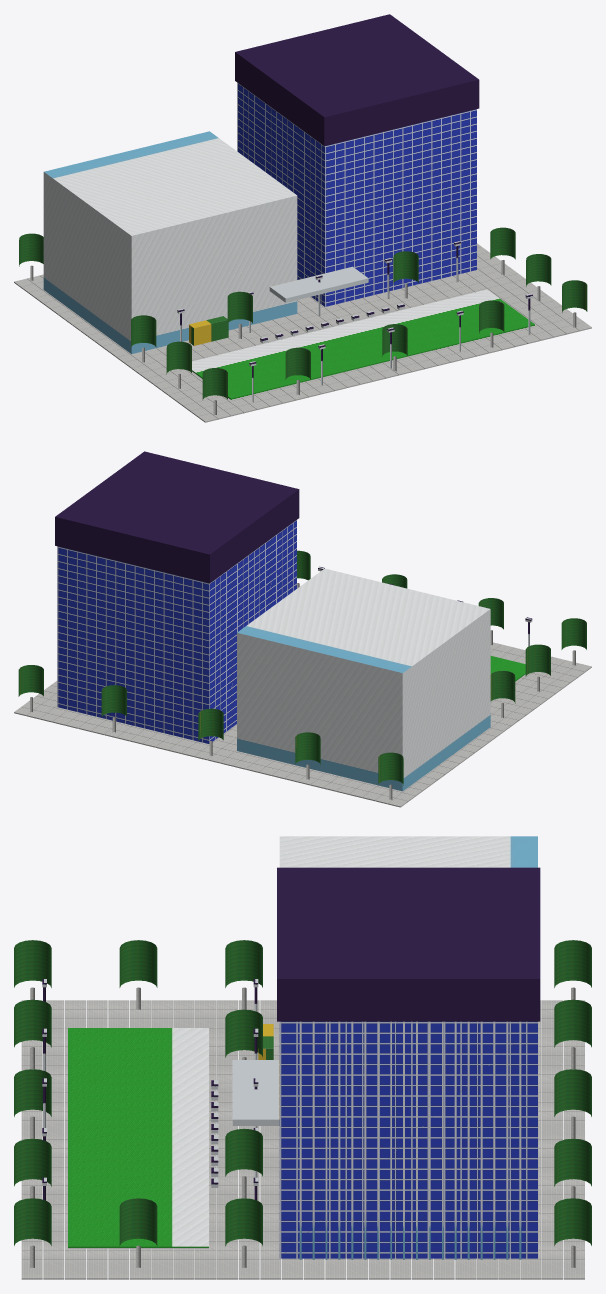
The picture shows the model from 3 angles, top to bottom: view 1: azimuth 30°, elevation 25°; view 2: azimuth 150°, elevation 25°; view 3: azimuth 270°, elevation 25°; orthographic projection. The views are drawn at different scales.
Parts seen in each view (by area): view 1: 28185_B38_Eylon_Biomedical_RND_Center; view 2: 28185_B38_Eylon_Biomedical_RND_Center; view 3: 28185_B38_Eylon_Biomedical_RND_Center.
Part boxes in pixels (x1,y1,x2,y2): 28185_B38_Eylon_Biomedical_RND_Center: (14, 14, 591, 422); 28185_B38_Eylon_Biomedical_RND_Center: (14, 451, 591, 807); 28185_B38_Eylon_Biomedical_RND_Center: (14, 836, 591, 1279).
Bounding box in the file's own units: 55.95 × 26.5 × 49.2.
1 material, 1 textured.
